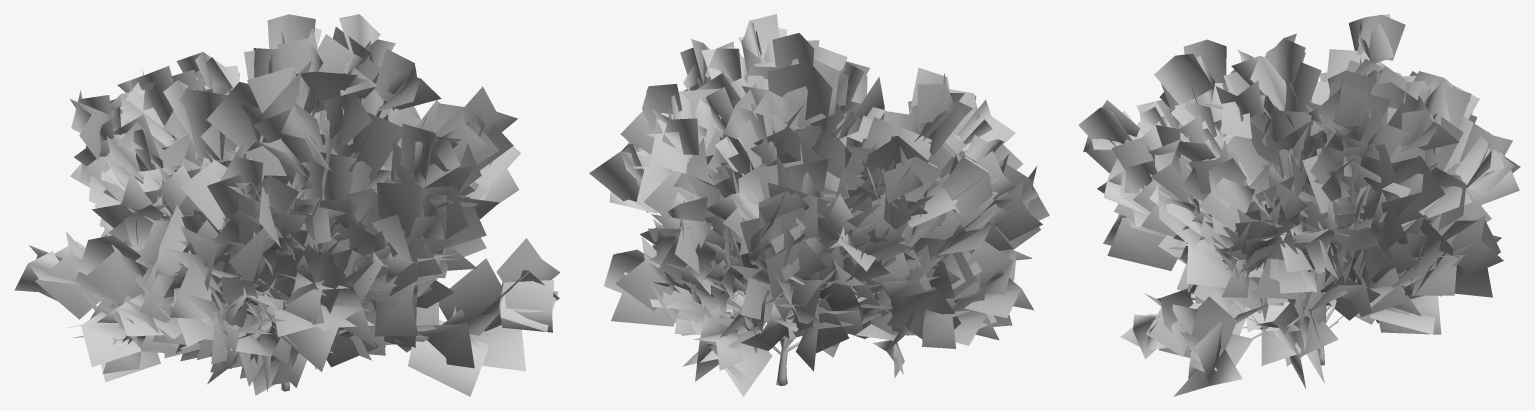
File: BeechAmerican_B.fbx
3 renders of one model, left to right at view 1: azimuth 30°, elevation 25°; view 2: azimuth 150°, elevation 25°; view 3: azimuth 270°, elevation 25°, orthographic. The views are drawn at different scales.
Parts seen in each view (by area): view 1: BeechAmerican_B_LOD0; view 2: BeechAmerican_B_LOD0; view 3: BeechAmerican_B_LOD0.
Boxes of the visible parts, x1=… form: BeechAmerican_B_LOD0: x1=15, y1=14, x2=560, y2=396; BeechAmerican_B_LOD0: x1=589, y1=14, x2=1049, y2=396; BeechAmerican_B_LOD0: x1=1078, y1=14, x2=1520, y2=396.
Size of the model in its own units: 2333 by 1859 by 2287.
